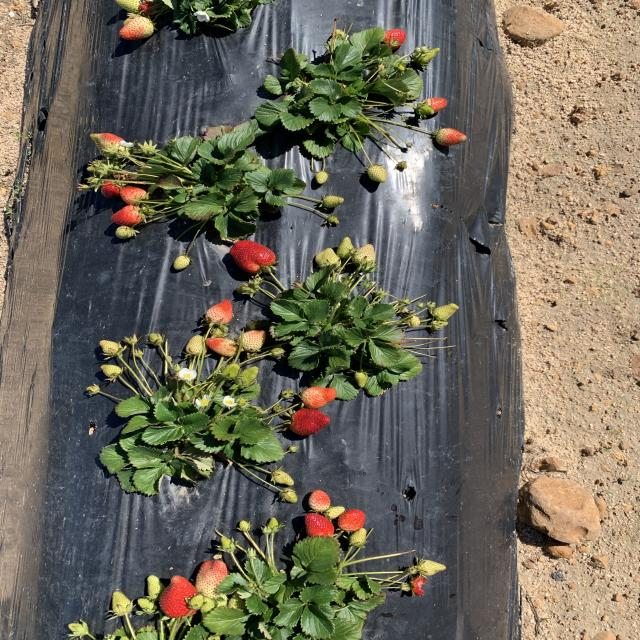unripe: (158, 575, 208, 619), (229, 238, 278, 276), (289, 406, 332, 437), (303, 514, 336, 542), (302, 387, 339, 406), (112, 205, 145, 225), (207, 300, 233, 324), (378, 29, 405, 52), (340, 510, 366, 532), (96, 178, 122, 198), (121, 188, 147, 204), (422, 97, 448, 111), (138, 3, 156, 13)
